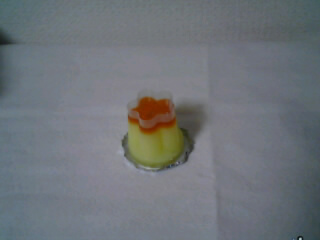001_classes: (119, 90, 194, 176)
